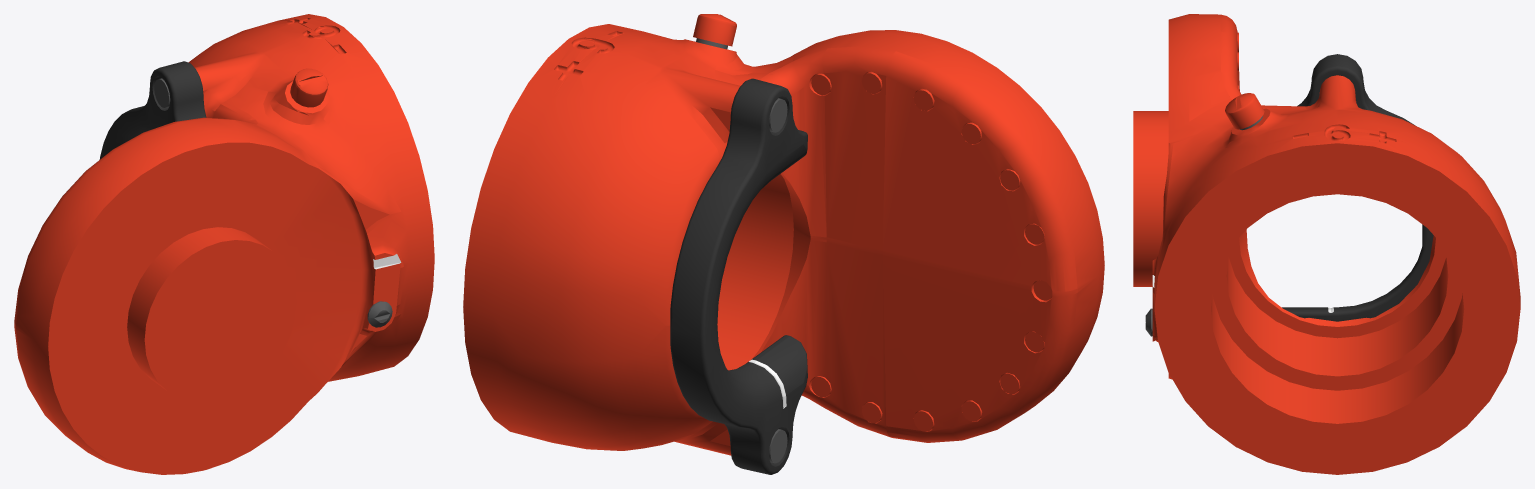
The picture shows the model from 3 angles, left to right: view 1: azimuth 30°, elevation 25°; view 2: azimuth 150°, elevation 25°; view 3: azimuth 270°, elevation 25°; orthographic projection. The views are drawn at different scales.
Visible parts, largest first — view 1: link_5; view 2: link_5; view 3: link_5.
Boxes of the visible parts, box(x1,y1,x2,y2) form: link_5: box(14, 14, 434, 474); link_5: box(463, 14, 1104, 474); link_5: box(1133, 14, 1520, 474).
Bounding box in the file's own units: 0.1266 × 0.11 × 0.1072.
